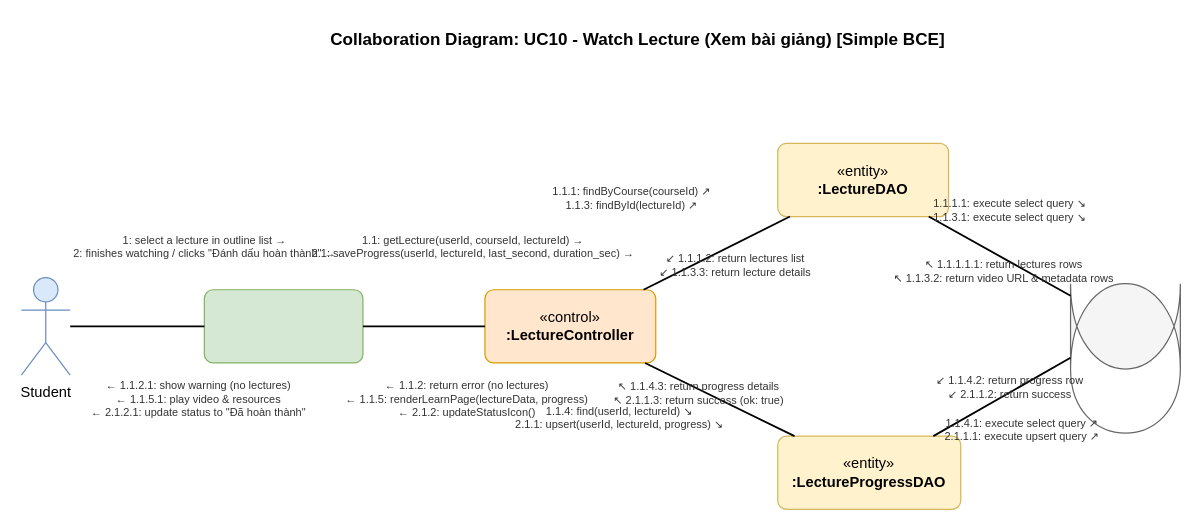
This 1202x531 diagram has some shape labels left out. The box of each missing label's shape, as (x1, y1, x2, y2) in pixels:
«boundary» :LectureBoundary: (203, 289, 363, 363)
«database» Database: (1069, 282, 1180, 369)
